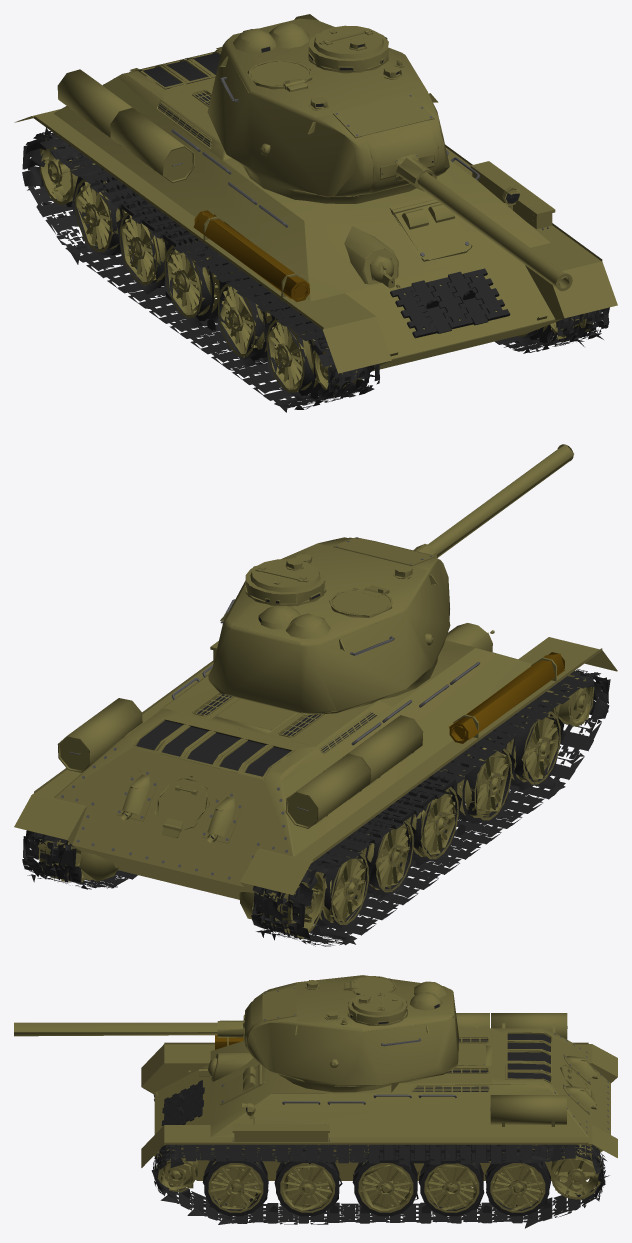
File: tank_lod1_original.glb
3 views of the same model, one above another, from view 1: azimuth 30°, elevation 25°; view 2: azimuth 150°, elevation 25°; view 3: azimuth 270°, elevation 25° (orthographic). The views are drawn at different scales.
Visible parts, largest first — view 1: T34 Head_T-34 nails_0.002, L.wheel.006_T-34 Body_0.002, L.Truck_T-34 Truck_0.004, R.Truck_T-34 Truck_0.003, L.Truck.002_T-34 nails_0.002; view 2: T34 Head_T-34 nails_0.002, L.Truck_T-34 Truck_0.004, L.wheel.006_T-34 Body_0.002, R.Truck_T-34 Truck_0.003, L.Truck.002_T-34 nails_0.002; view 3: T34 Head_T-34 nails_0.002, L.wheel.006_T-34 Body_0.002, L.Truck_T-34 Truck_0.004, L.Truck_T-34 Truck_0.005, L.Truck.002_T-34 nails_0.002.
Boxes of the visible parts, x1,y1,x2,y2 form: T34 Head_T-34 nails_0.002: (14,14,617,373); L.wheel.006_T-34 Body_0.002: (39,135,592,400); L.Truck_T-34 Truck_0.004: (22,127,609,412); R.Truck_T-34 Truck_0.003: (90,175,208,256); L.Truck.002_T-34 nails_0.002: (171,129,479,227); T34 Head_T-34 nails_0.002: (14,444,617,899); L.Truck_T-34 Truck_0.004: (22,669,610,946); L.wheel.006_T-34 Body_0.002: (38,672,594,939); R.Truck_T-34 Truck_0.003: (348,763,468,843); L.Truck.002_T-34 nails_0.002: (69,662,479,810); T34 Head_T-34 nails_0.002: (14,975,617,1180); L.wheel.006_T-34 Body_0.002: (156,1144,601,1217); L.Truck_T-34 Truck_0.004: (151,1094,609,1228); L.Truck_T-34 Truck_0.005: (352,1144,505,1164); L.Truck.002_T-34 nails_0.002: (282,1026,567,1110).
Size of the model in its own units: 71.38 by 62.6 by 178.
